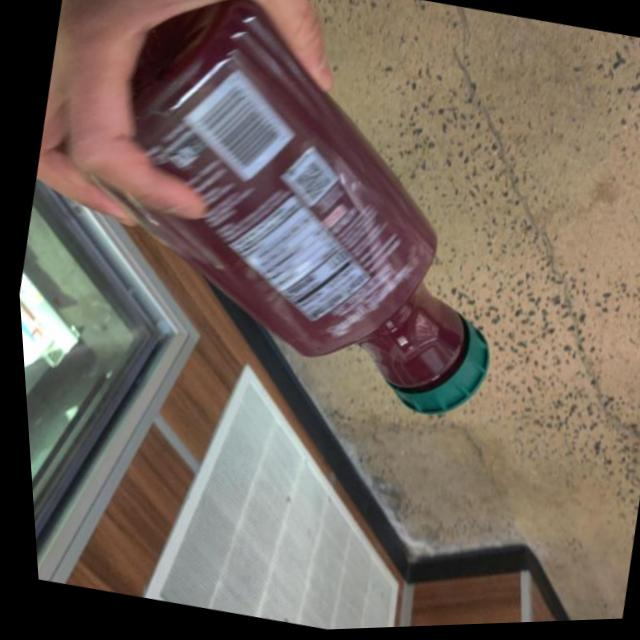Juice: (18, 0, 552, 436)
